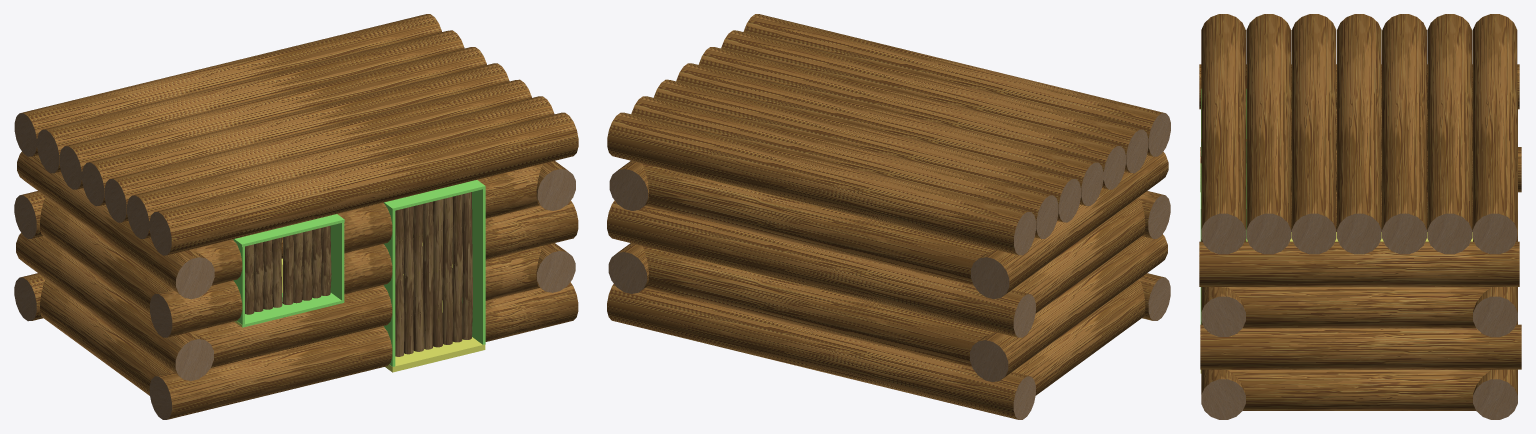
The model's file is SmallWoodShelter.fbx.
3 views of the same model, side by side, from view 1: azimuth 30°, elevation 25°; view 2: azimuth 150°, elevation 25°; view 3: azimuth 270°, elevation 25° (orthographic).
Visible parts, largest first — view 1: Cylinder.008, Cylinder.056, Cylinder.086, Cylinder.085, Cylinder.001; view 2: Cylinder.008; view 3: Cylinder.008.
Boxes of the visible parts, x1=… form: Cylinder.008: x1=14, y1=14, x2=578, y2=419; Cylinder.056: x1=395, y1=192, x2=472, y2=356; Cylinder.086: x1=282, y1=226, x2=331, y2=304; Cylinder.085: x1=245, y1=237, x2=282, y2=314; Cylinder.001: x1=281, y1=243, x2=485, y2=372; Cylinder.008: x1=607, y1=14, x2=1170, y2=419; Cylinder.008: x1=1199, y1=14, x2=1521, y2=419.
Size of the model in its own units: 2588 by 1245 by 1766.
